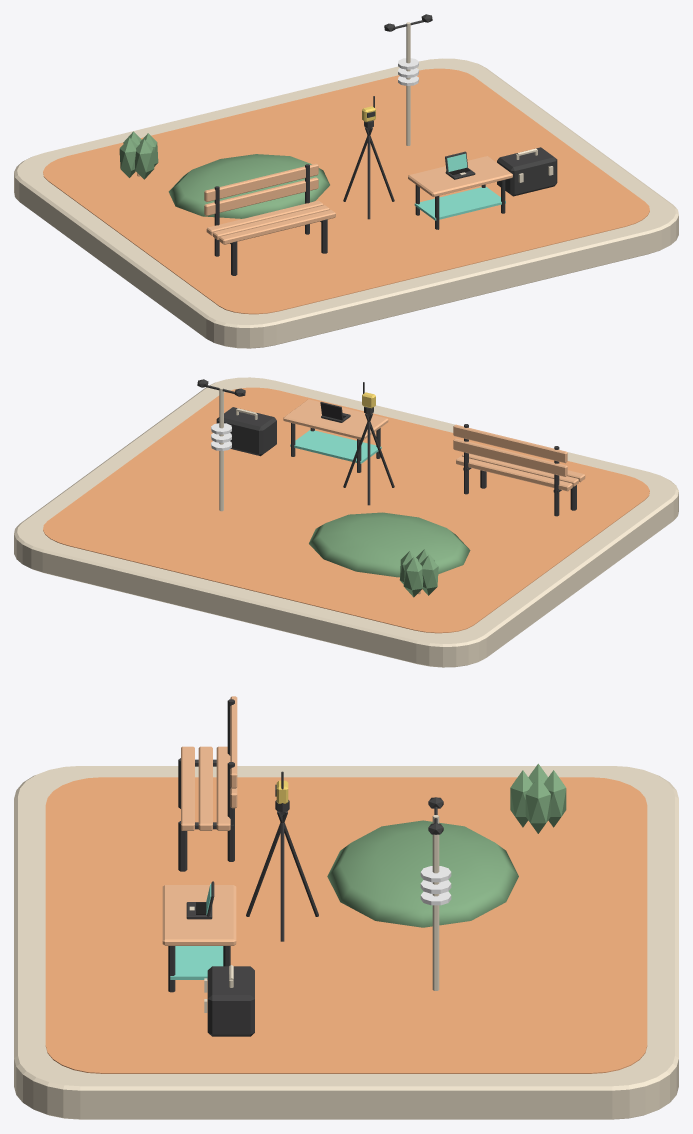
Rendered from room.fbx.
The picture shows the model from 3 angles, top to bottom: view 1: azimuth 30°, elevation 25°; view 2: azimuth 150°, elevation 25°; view 3: azimuth 270°, elevation 25°; orthographic projection. The views are drawn at different scales.
Visible parts, largest first — view 1: COM-02 Floor Surface, COM-01 Rounded Base Direct, Low terrain, Worktop, Case, Lower shelf, Back slat, Back slat.001, Seat slat, Seat slat.002, Seat slat.001, Leaf.003 (+2 smaller); view 2: COM-02 Floor Surface, COM-01 Rounded Base Direct, Low terrain, Worktop, Case, Lower shelf, Back slat, Back slat.001, Seat slat.002, Seat slat.001, Leaf.001, Mast (+1 smaller); view 3: COM-02 Floor Surface, COM-01 Rounded Base Direct, Low terrain, Worktop, Case, Lower shelf, Seat slat.001, Seat slat, Mast, Seat slat.002, Leaf, Leaf.001 (+2 smaller).
Part boxes in pixels (left/top/right/bottom): COM-02 Floor Surface: left=43, top=68, right=649, bottom=314; COM-01 Rounded Base Direct: left=14, top=58, right=678, bottom=348; Low terrain: left=168, top=154, right=329, bottom=218; Worktop: left=408, top=156, right=512, bottom=196; Case: left=497, top=147, right=557, bottom=196; Lower shelf: left=414, top=186, right=505, bottom=220; Back slat: left=204, top=177, right=318, bottom=215; Back slat.001: left=204, top=163, right=318, bottom=201; Seat slat: left=219, top=210, right=335, bottom=244; Seat slat.002: left=206, top=200, right=323, bottom=235; Seat slat.001: left=213, top=205, right=329, bottom=239; Leaf.003: left=135, top=139, right=154, bottom=179; COM-02 Floor Surface: left=43, top=387, right=649, bottom=633; COM-01 Rounded Base Direct: left=14, top=377, right=678, bottom=667; Low terrain: left=309, top=512, right=470, bottom=577; Worktop: left=283, top=399, right=388, bottom=439; Case: left=216, top=407, right=276, bottom=456; Lower shelf: left=290, top=430, right=381, bottom=463; Back slat: left=453, top=438, right=567, bottom=476; Back slat.001: left=453, top=424, right=567, bottom=463; Seat slat.002: left=456, top=456, right=572, bottom=491; Seat slat.001: left=462, top=453, right=578, bottom=486; Leaf.001: left=403, top=557, right=423, bottom=597; Mast: left=219, top=387, right=223, bottom=511; COM-02 Floor Surface: left=45, top=777, right=647, bottom=1073; COM-01 Rounded Base Direct: left=14, top=766, right=678, bottom=1119; Low terrain: left=327, top=820, right=518, bottom=927; Worktop: left=162, top=885, right=236, bottom=945; Case: left=207, top=966, right=254, bottom=1036; Lower shelf: left=170, top=946, right=223, bottom=979; Seat slat.001: left=198, top=746, right=212, bottom=830; Seat slat: left=181, top=746, right=194, bottom=830; Mast: left=432, top=815, right=439, bottom=990; Seat slat.002: left=216, top=746, right=230, bottom=830; Leaf: left=525, top=776, right=550, bottom=833; Leaf.001: left=544, top=770, right=566, bottom=827.
Bounding box in the file's own units: 600 × 185 × 520.
